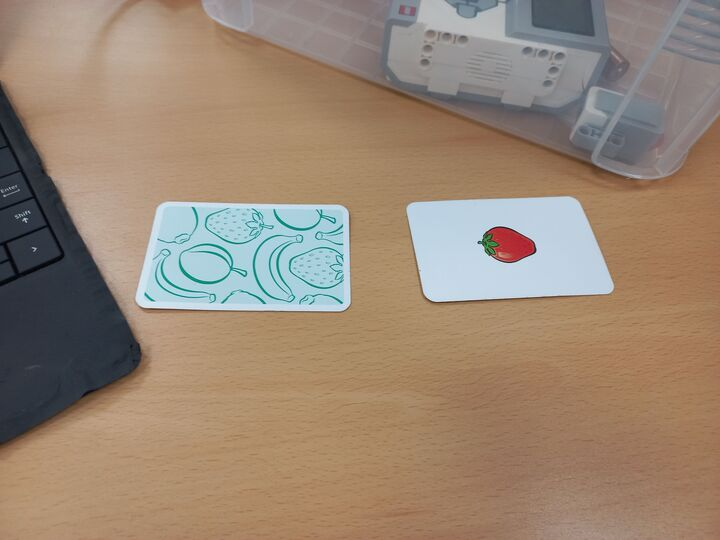strawberry1: (405, 194, 617, 304)
